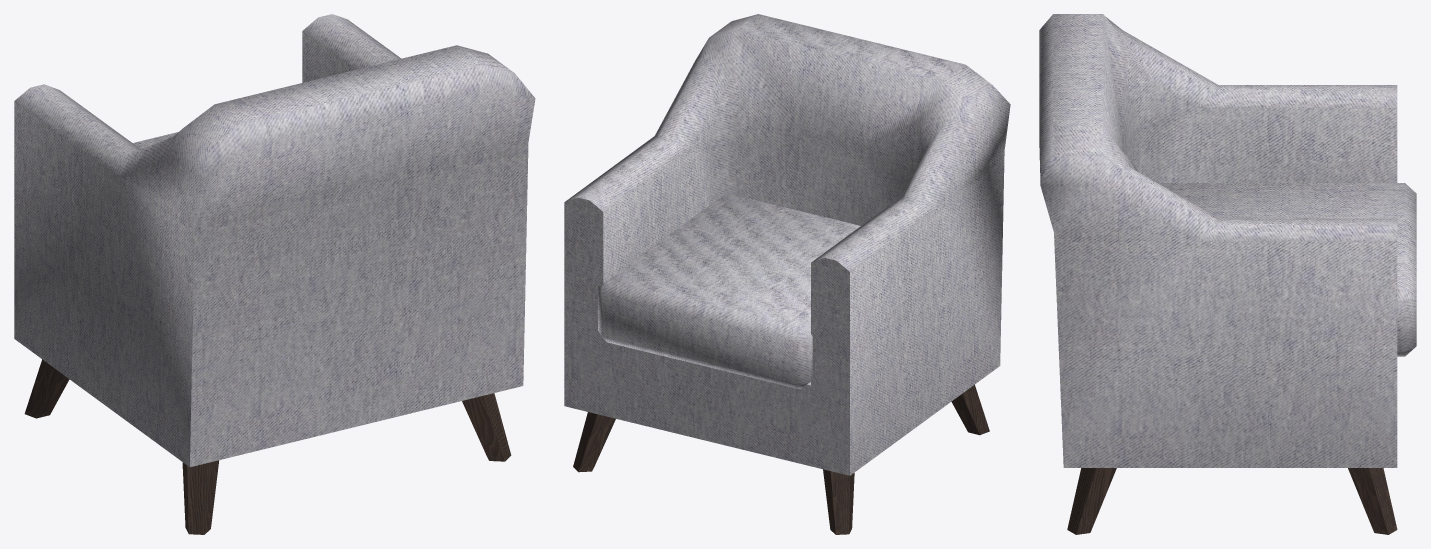
The model's file is Armchair_07-col.glb.
3 views of the same model, side by side, from view 1: azimuth 30°, elevation 25°; view 2: azimuth 150°, elevation 25°; view 3: azimuth 270°, elevation 25° (orthographic). The views are drawn at different scales.
Visible parts, largest first — view 1: Armchair_07-col; view 2: Armchair_07-col; view 3: Armchair_07-col.
Part boxes in pixels (x1,y1,x2,y2): Armchair_07-col: (14, 14, 535, 534); Armchair_07-col: (564, 14, 1010, 534); Armchair_07-col: (1039, 14, 1416, 534).
Size of the model in its own units: 0.9379 by 1.1 by 0.9655.
Materials: 2 (2 with a texture image).
